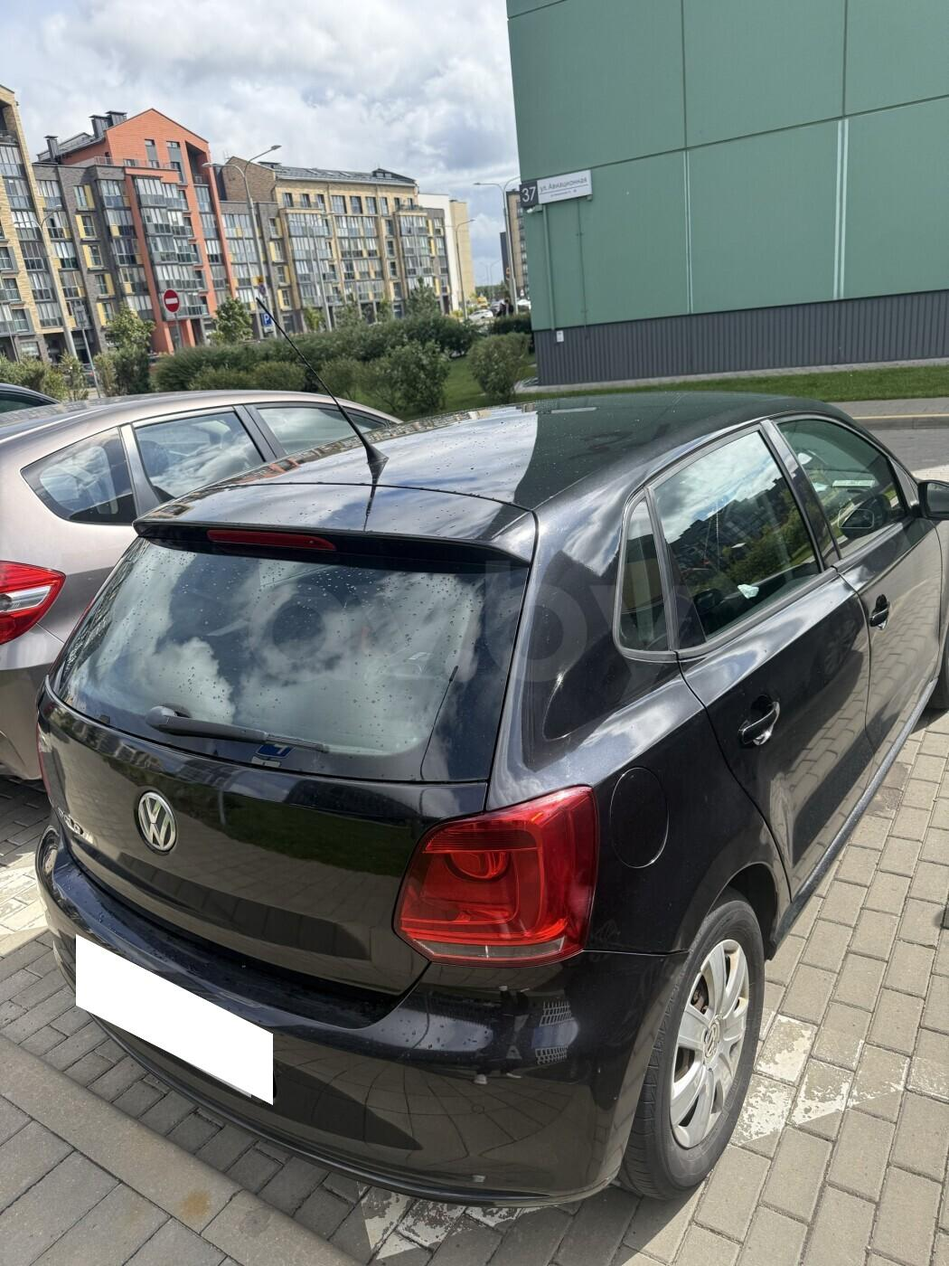Polo_2009-2015: (11, 390, 948, 1234)
